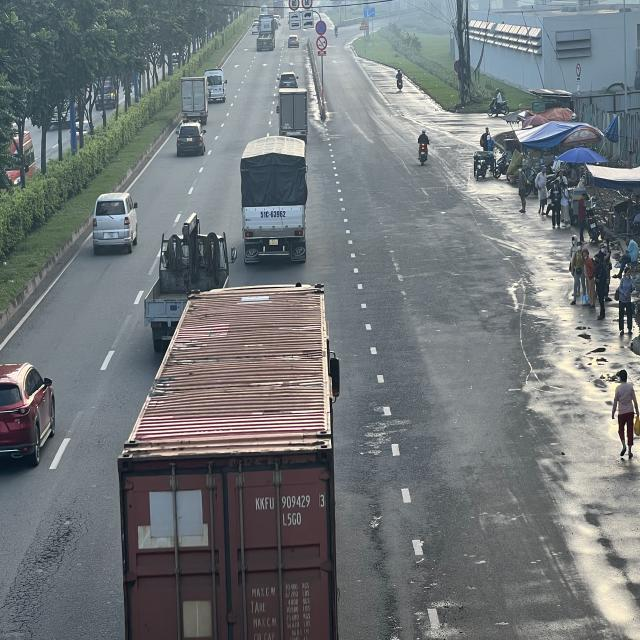car: (0, 364, 55, 470), (94, 193, 141, 253), (174, 121, 207, 155)
container: (118, 285, 339, 640), (256, 16, 275, 50)
truck: (147, 216, 234, 373), (240, 138, 308, 268), (277, 90, 310, 142), (180, 76, 208, 122)
van: (206, 69, 226, 104)
